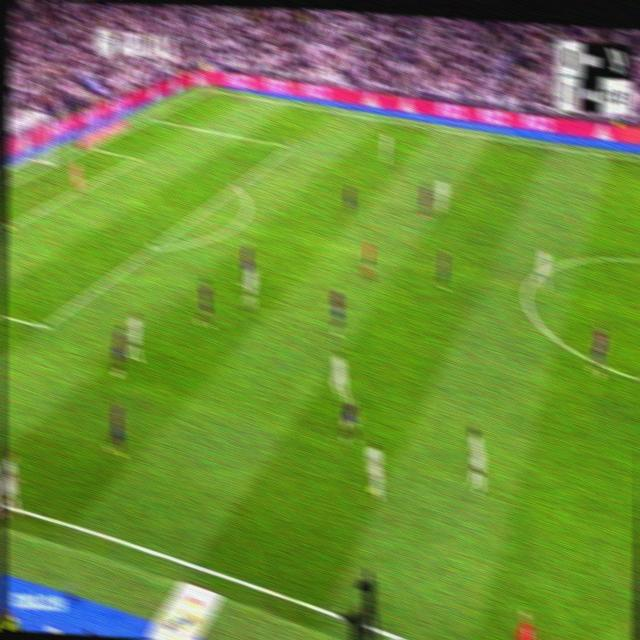bigarea_bottom_inner: (35, 313, 50, 338)
bigarea_top_inner: (284, 136, 296, 154)
bigarea_top_outter: (144, 110, 154, 124)
bottom_arc_area_intersection: (146, 237, 159, 256)
corner: (202, 82, 213, 95)
smallarea_bottom_inner: (3, 217, 15, 234)
smallarea_top_inner: (132, 152, 140, 163)
top_arc_area_intersection: (230, 176, 241, 194)
